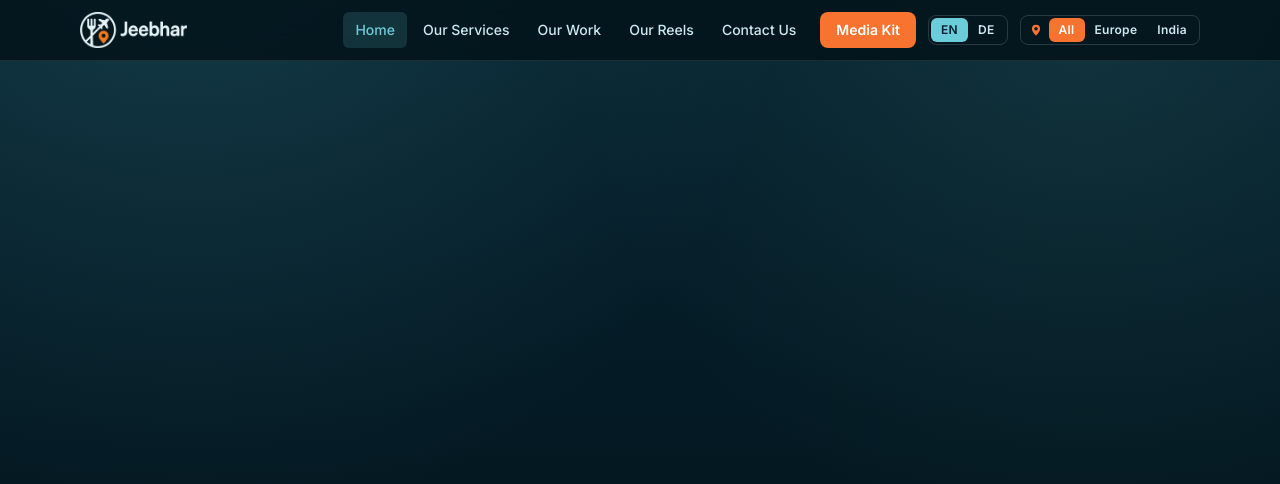
Test: Header › translates the menu when German is chosen
The image size is (1280, 484).
Click the button with aria-label "deutsch" at (986, 30), box [968,18,1004,42]
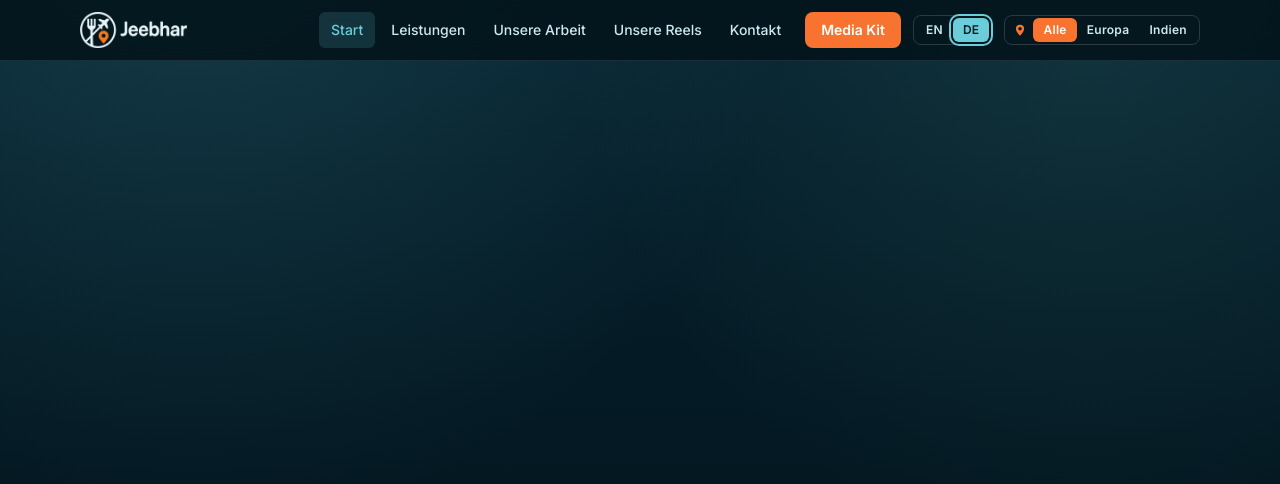
Expected: the link "Leistungen" is shown, [391,21,465,38]
